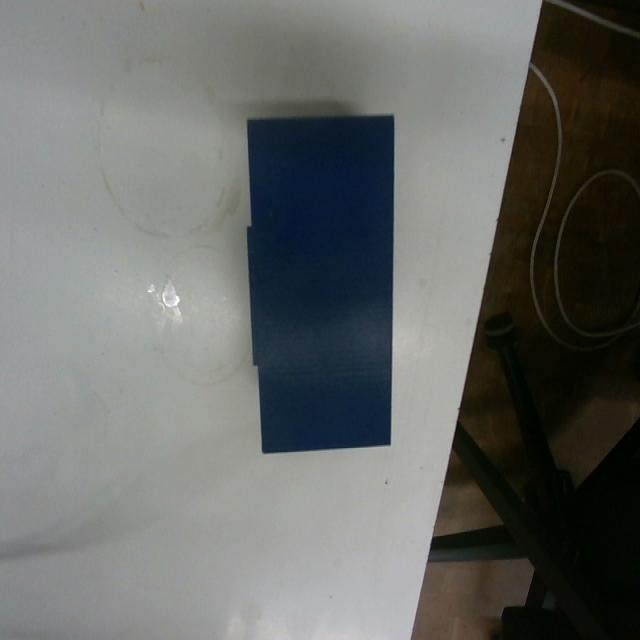Blue Cuboid: (243, 110, 395, 454)
